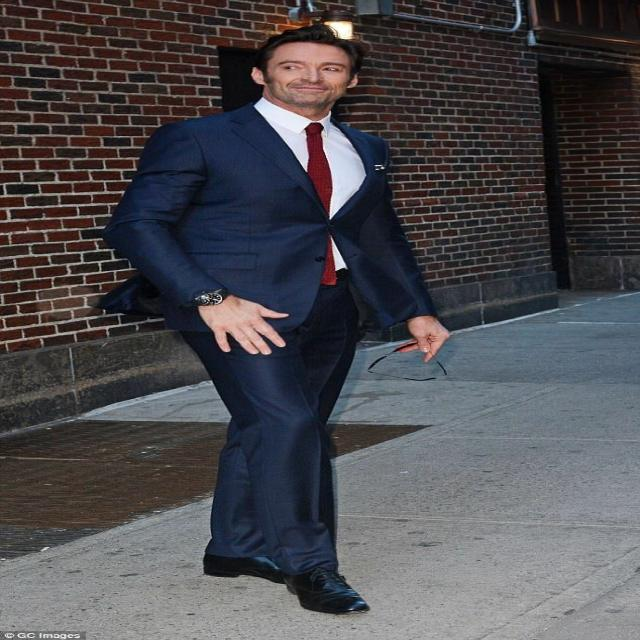male-dress: (104, 104, 447, 591)
